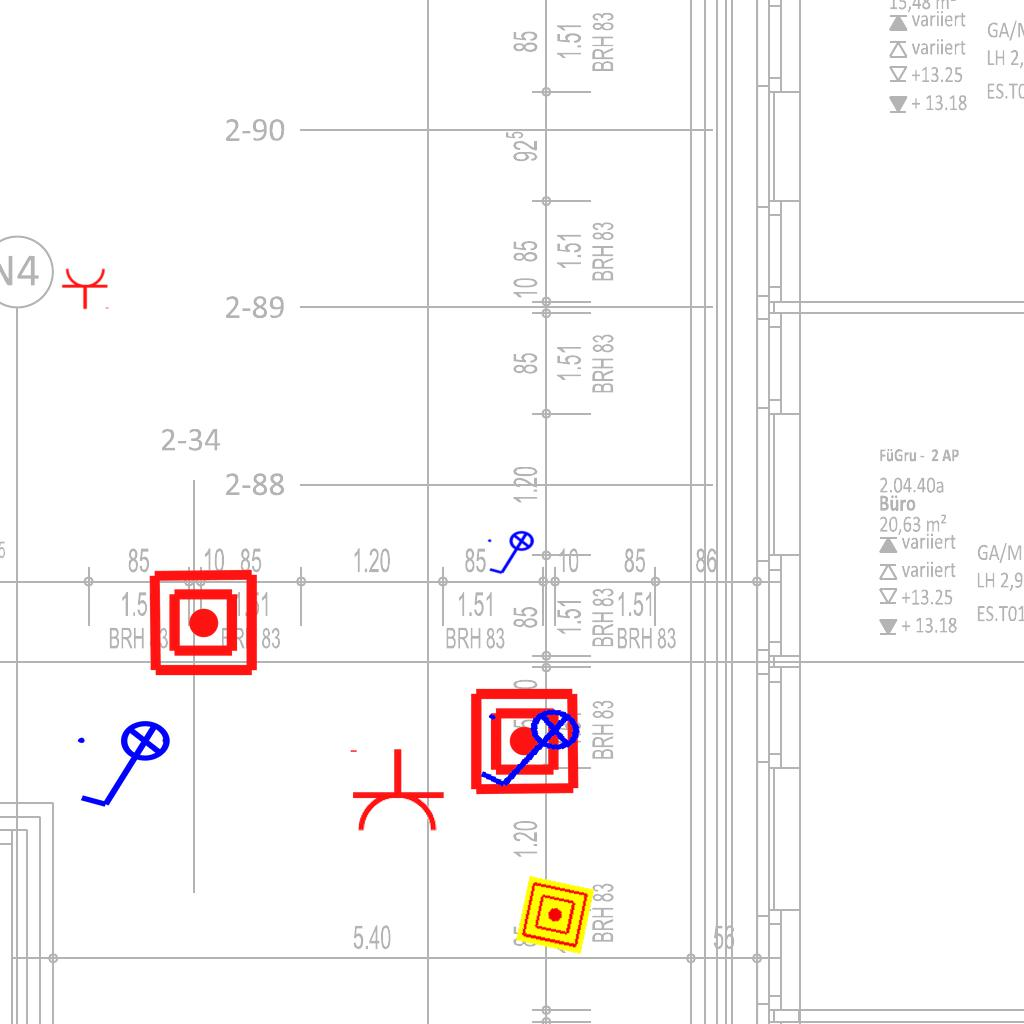Ausschalter_beleuchtet: (468, 694, 598, 810), (72, 719, 184, 815), (485, 530, 541, 578)
NAM-Nichtautomatischer_Melder: (468, 685, 581, 798), (147, 566, 260, 679), (515, 875, 595, 955)
Schukosteckdose_einfach: (346, 747, 446, 834), (61, 267, 111, 310)
